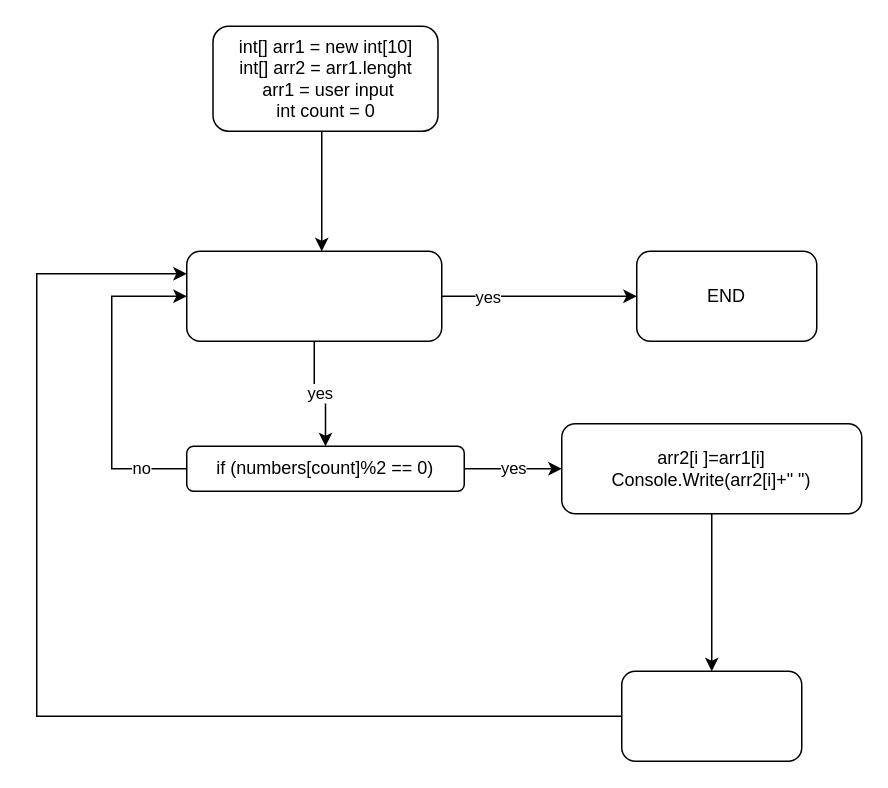
This 888x788 diagram has some shape labels left out. Here are the shapes that lost their labels. From the top down, the box of each, then its label:
(185, 250, 442, 341): while (count < numbers.lengh)
(620, 670, 802, 761): count++
